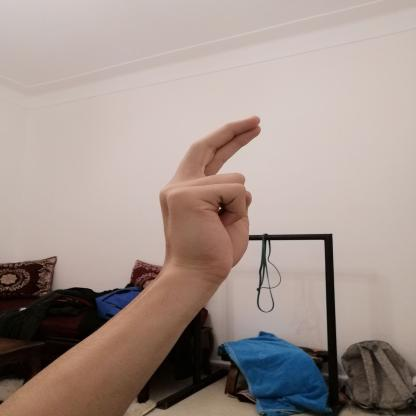ZAY: (149, 110, 274, 291)
